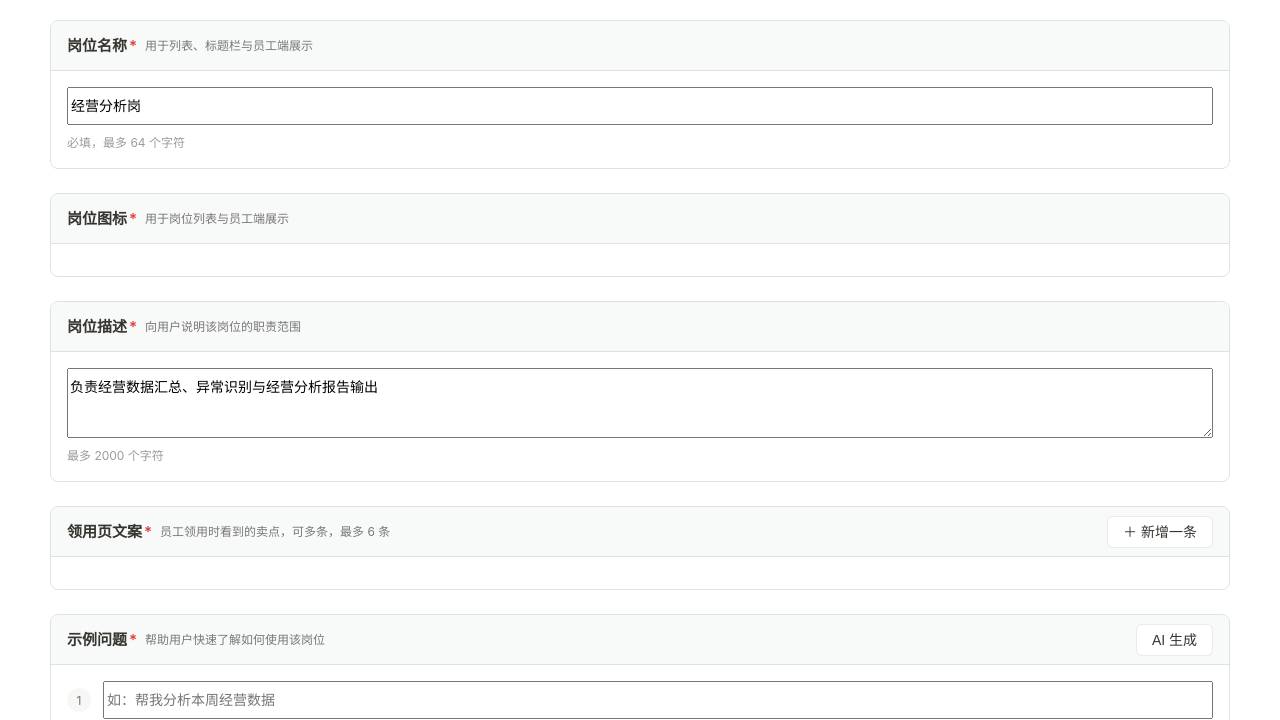
Test case: 人格页签 · 【AI 生成】切换岗位时不串数据（yuepu#54） › 点【AI 生成】后 500ms 内切到另一个岗位 → 生成结果不得写进新岗位、不弹成功提示
Click the button "AI 生成" at coordinates (1174, 640), box [1136,624,1213,656]
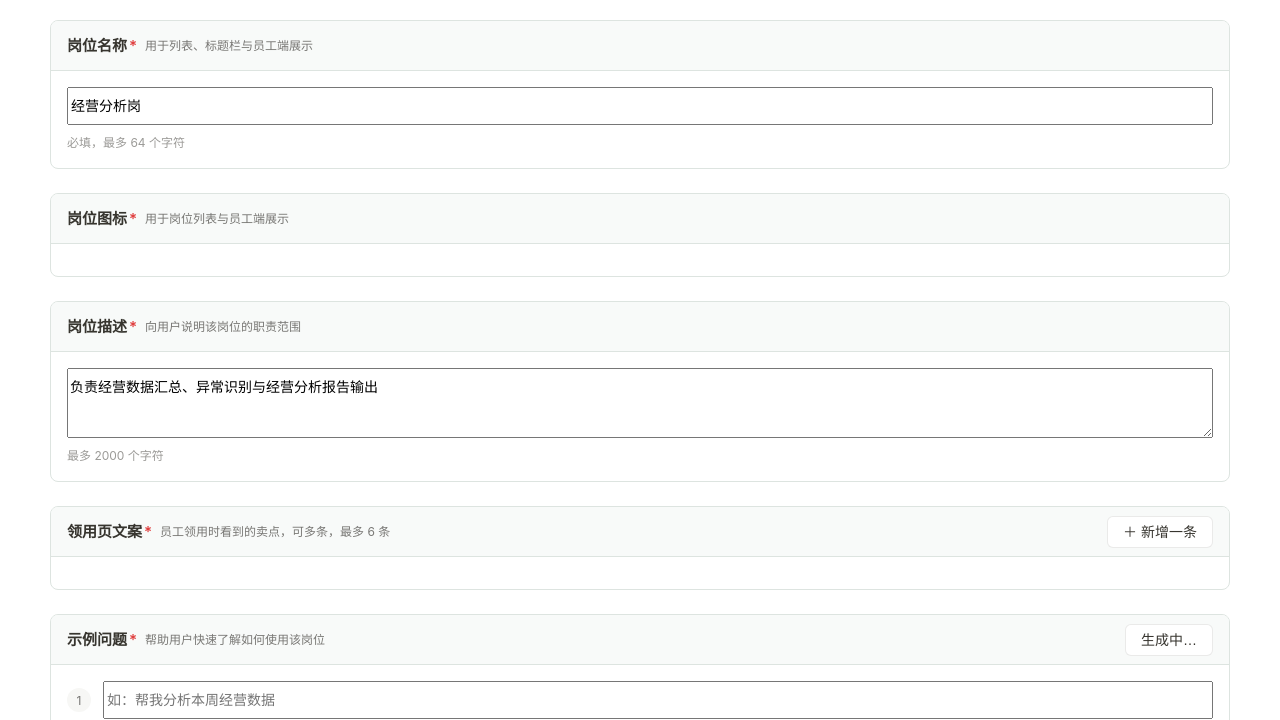
Expected: the button "生成中…" is shown, [1125,624,1213,656]
